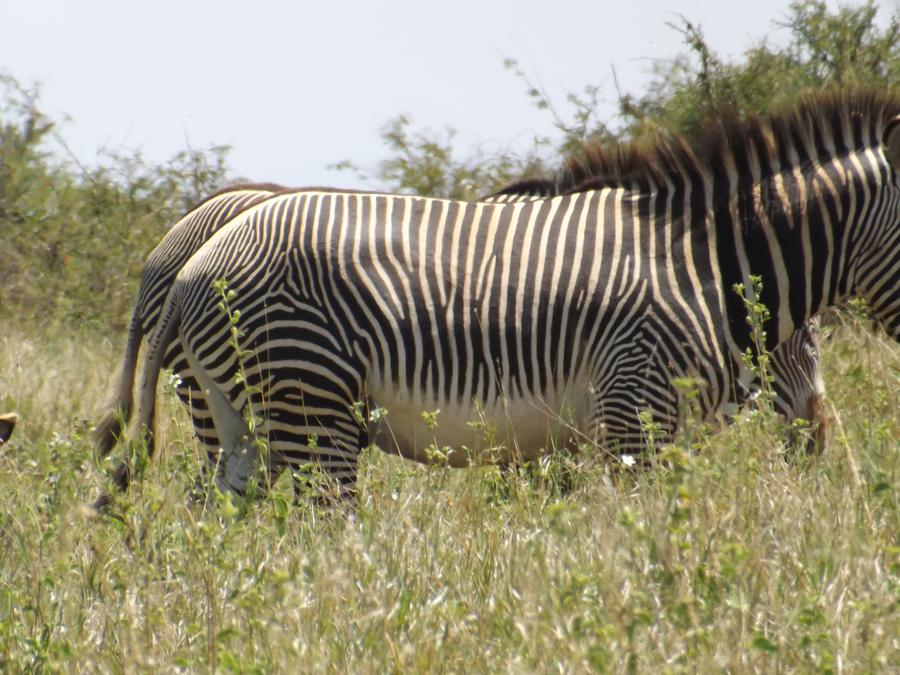zebra_grevys: (185, 187, 710, 436)
